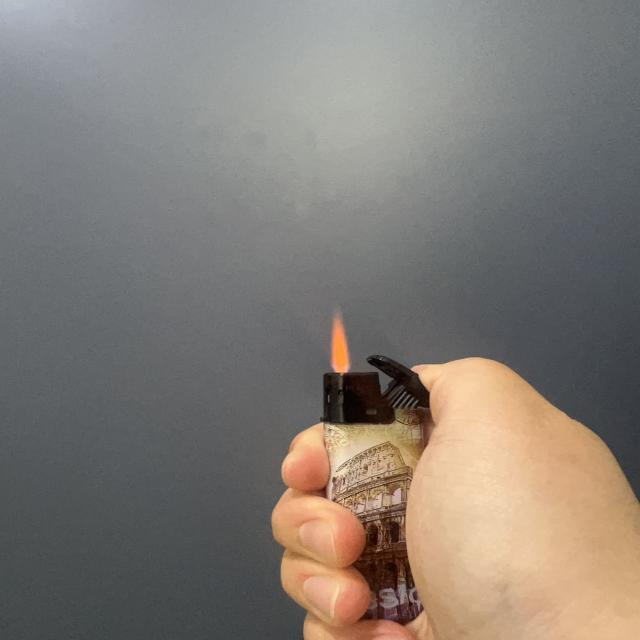fire: (328, 310, 353, 376)
